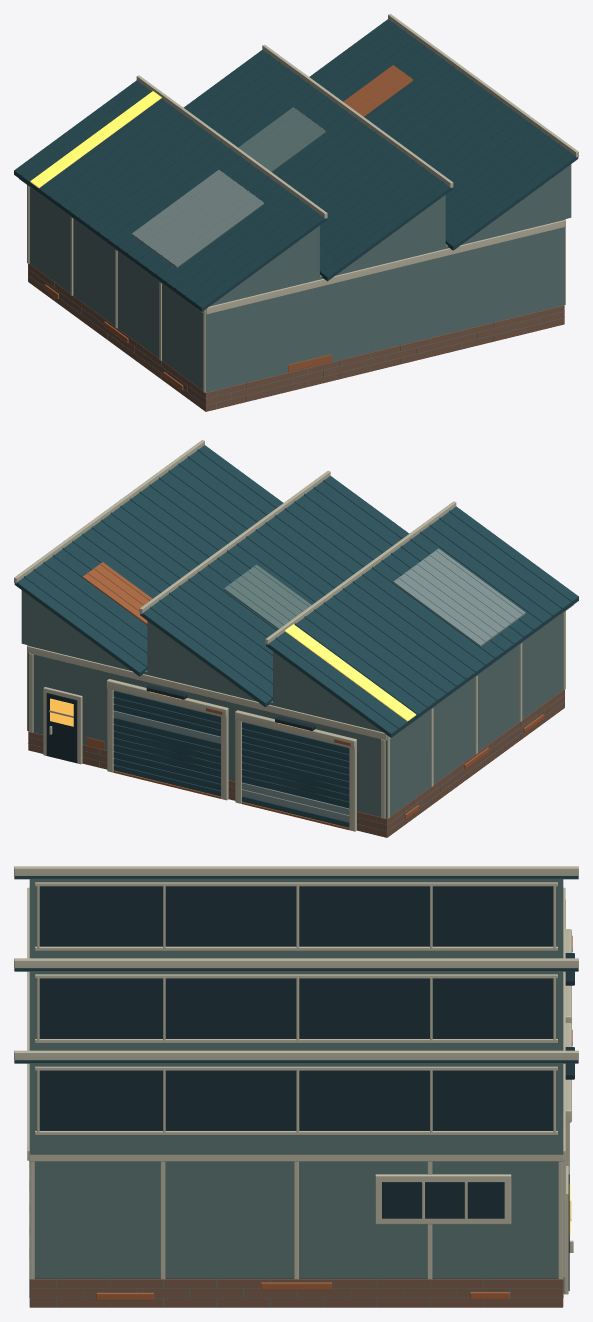
The model's file is d08_workshop_buildings_02.glb.
3 views of the same model, one above another, from view 1: azimuth 30°, elevation 25°; view 2: azimuth 150°, elevation 25°; view 3: azimuth 270°, elevation 25° (orthographic). The views are drawn at different scales.
Parts seen in each view (by area): view 1: D08WorkshopBuildings02_Mesh; view 2: D08WorkshopBuildings02_Mesh; view 3: D08WorkshopBuildings02_Mesh.
Boxes of the visible parts, x1,y1,x2,y2 form: D08WorkshopBuildings02_Mesh: (14,14,578,411); D08WorkshopBuildings02_Mesh: (14,440,578,837); D08WorkshopBuildings02_Mesh: (14,866,578,1307).
Size of the model in its own units: 14.7 by 6.5 by 12.7.
